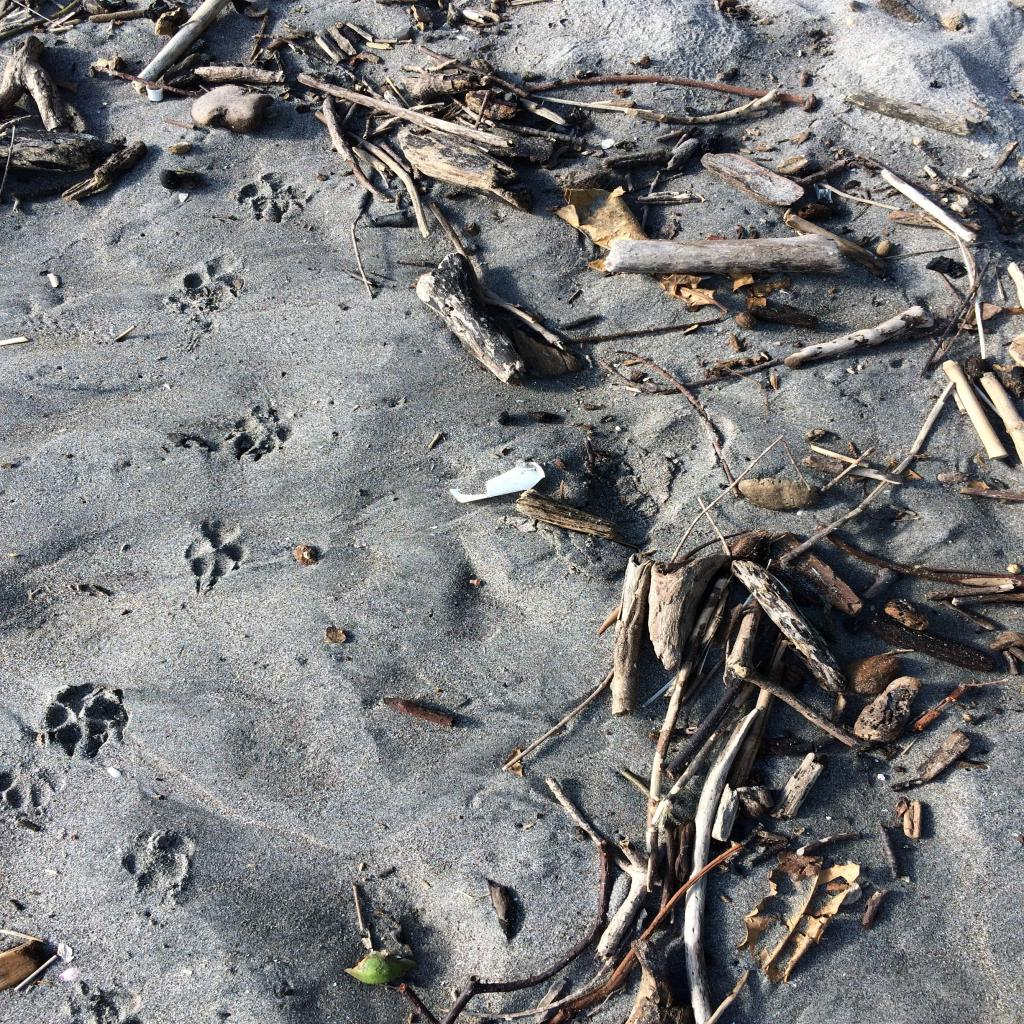Other plastic wrapper: (450, 462, 546, 503)
Plastic bottle cap: (146, 84, 164, 102)
